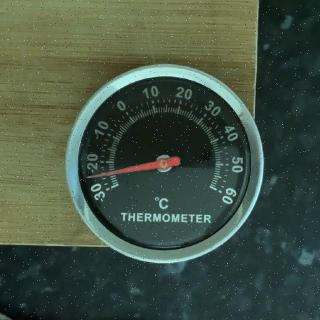gauge: (60, 50, 266, 265), (198, 176, 224, 200), (104, 174, 128, 198), (154, 153, 174, 173), (83, 170, 98, 182)
